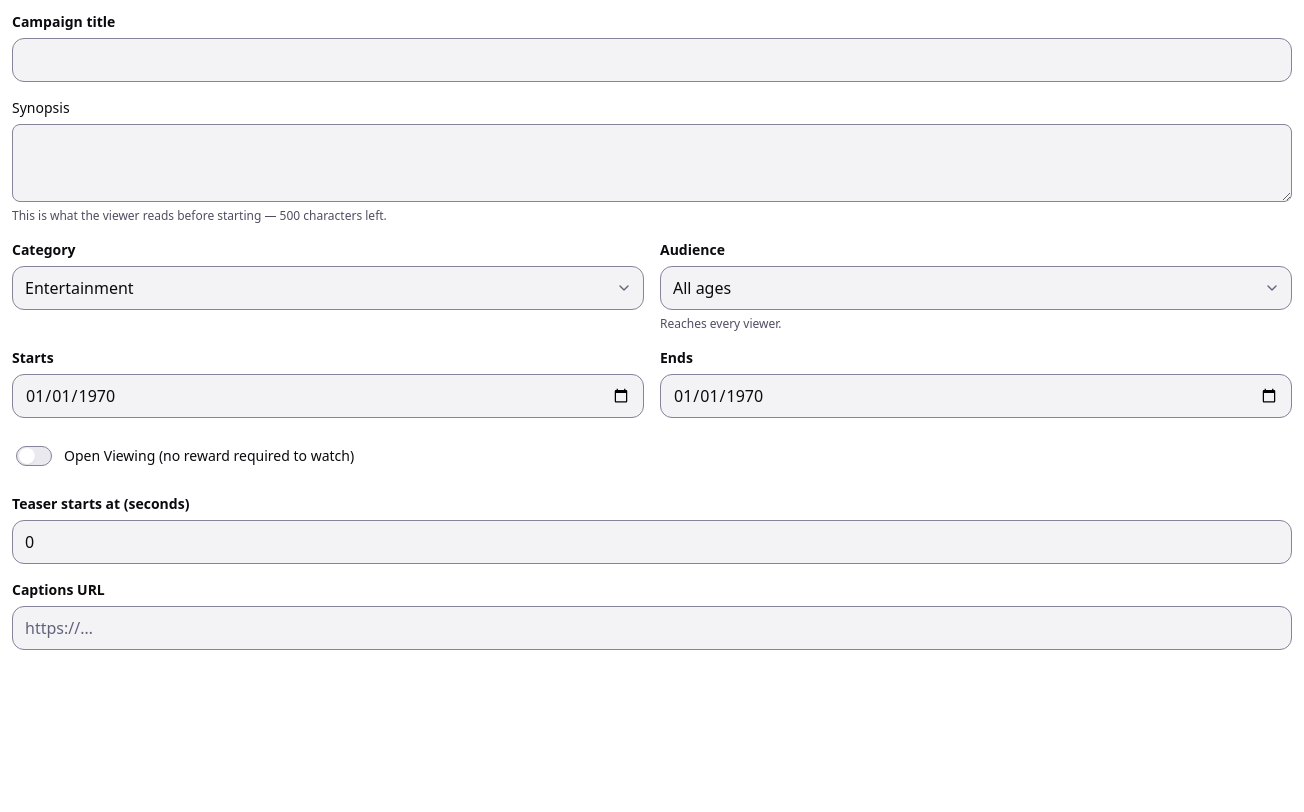
Test: CampaignEditorDetails › forces audience to Adult and explains why when an adult_only category is picked (AU)
Select "Alcohol" in the dropdown labelled "Category" at [328, 288], box 12,266 -> 644,310
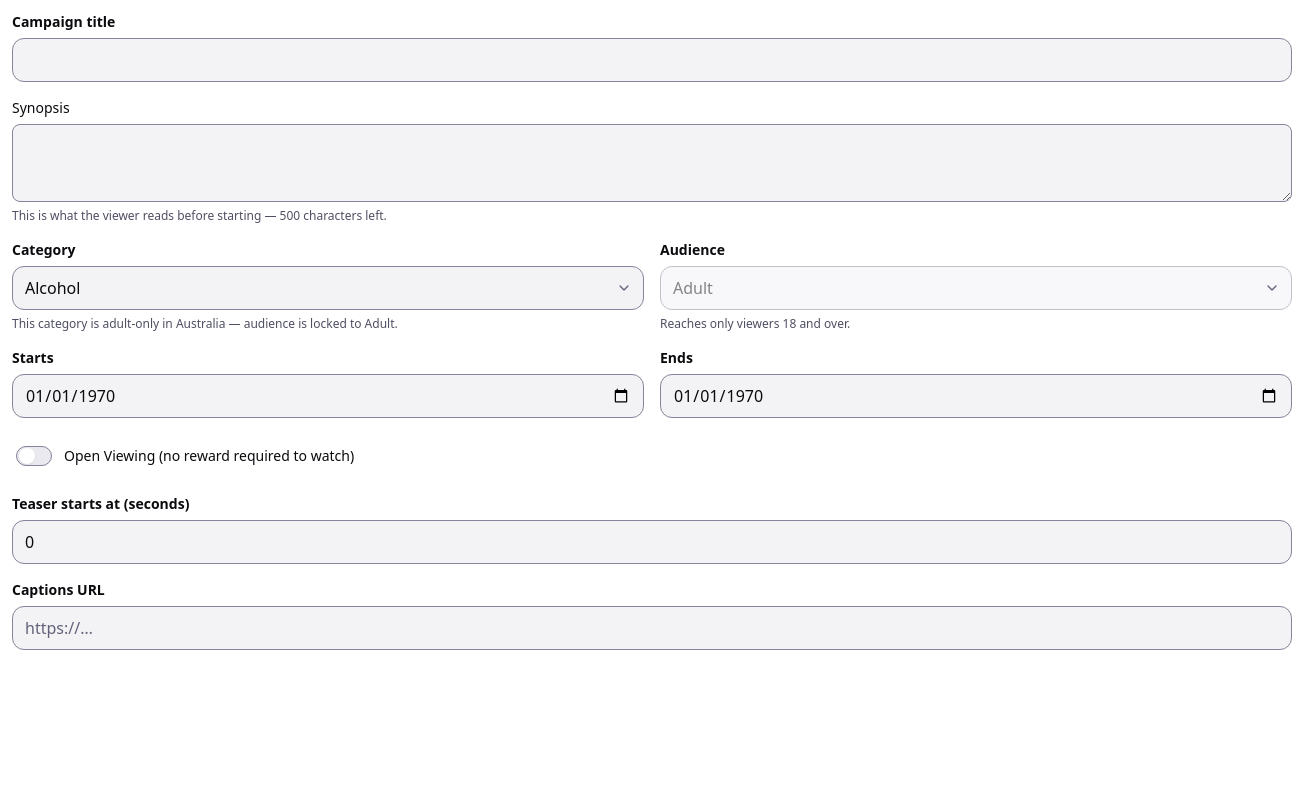
Now the dropdown labelled "Audience" shows "Adult", box 660,266 -> 1292,310
Now the dropdown labelled "Audience" is disabled, box 660,266 -> 1292,310
Now the text "adult-only in Australia" is shown, box 12,315 -> 398,332
